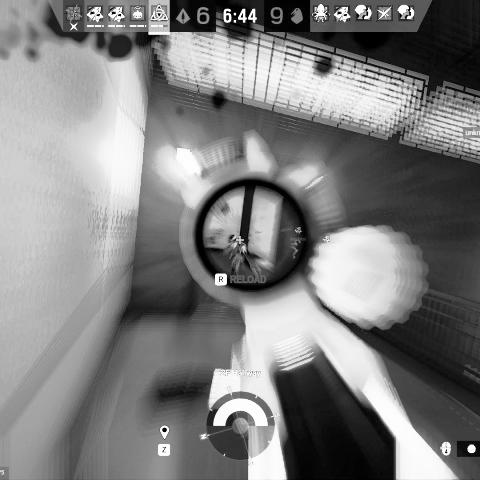Character: (222, 234, 262, 280)
Friend_label: (316, 234, 337, 251), (290, 226, 306, 242)
Head: (227, 234, 239, 247)
